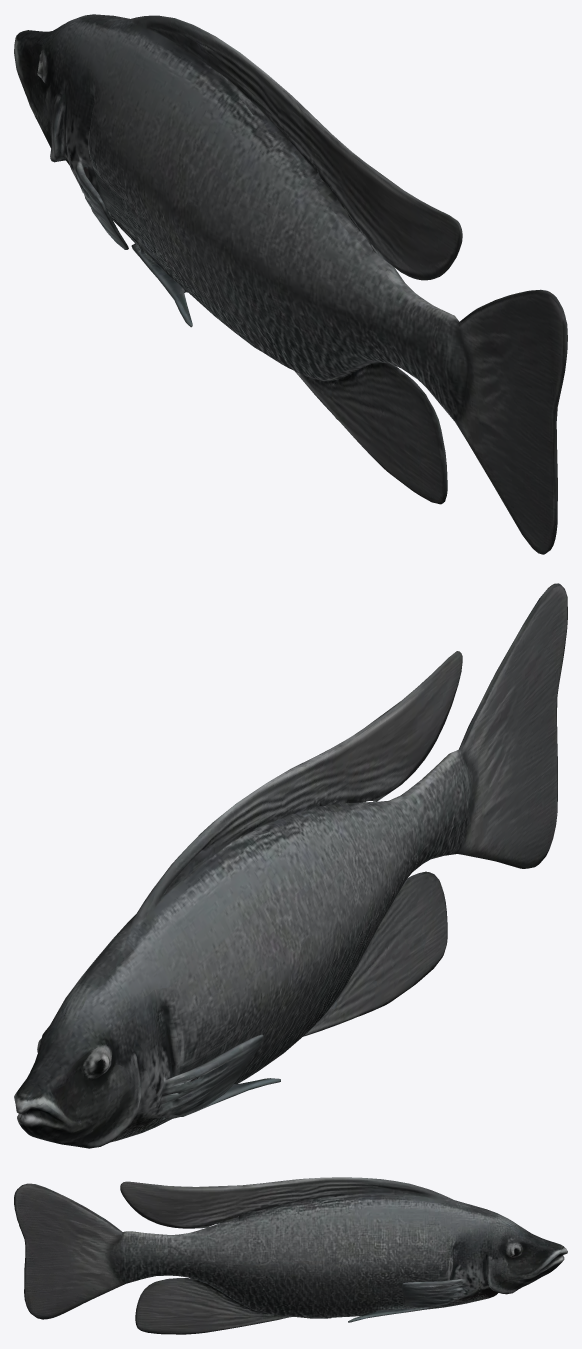
File: tilapia.glb
3 views of the same model, one above another, from view 1: azimuth 30°, elevation 25°; view 2: azimuth 150°, elevation 25°; view 3: azimuth 270°, elevation 25° (orthographic). The views are drawn at different scales.
Visible parts, largest first — view 1: geometry_0; view 2: geometry_0; view 3: geometry_0.
Part boxes in pixels (<box>): geometry_0: <box>14,14,567,554</box>; geometry_0: <box>14,583,567,1148</box>; geometry_0: <box>14,1177,567,1334</box>.
Bounding box in the file's own units: 0.1725 × 0.3134 × 1.
1 material, 1 textured.
